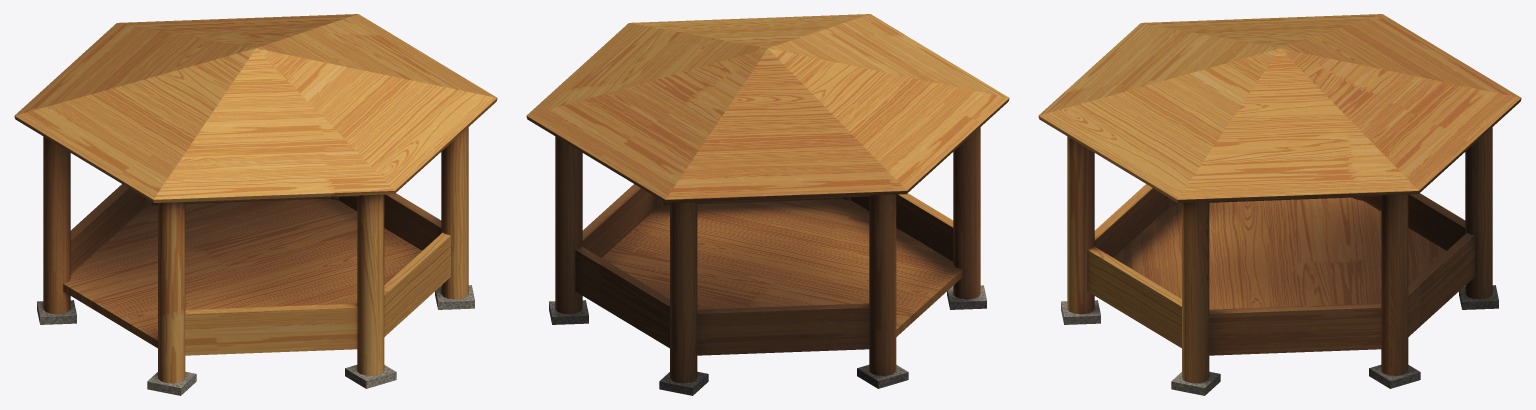
Rendered from jungza.fbx.
3 views of the same model, side by side, from view 1: azimuth 30°, elevation 25°; view 2: azimuth 150°, elevation 25°; view 3: azimuth 270°, elevation 25° (orthographic).
Parts seen in each view (by area): view 1: PK_jungza; view 2: PK_jungza; view 3: PK_jungza.
Part boxes in pixels (x1,y1,x2,y2): PK_jungza: (14,14,497,395); PK_jungza: (526,14,1009,395); PK_jungza: (1038,14,1521,395).
Size of the model in its own units: 527 by 345 by 579.
Materials: 1 (1 with a texture image).
